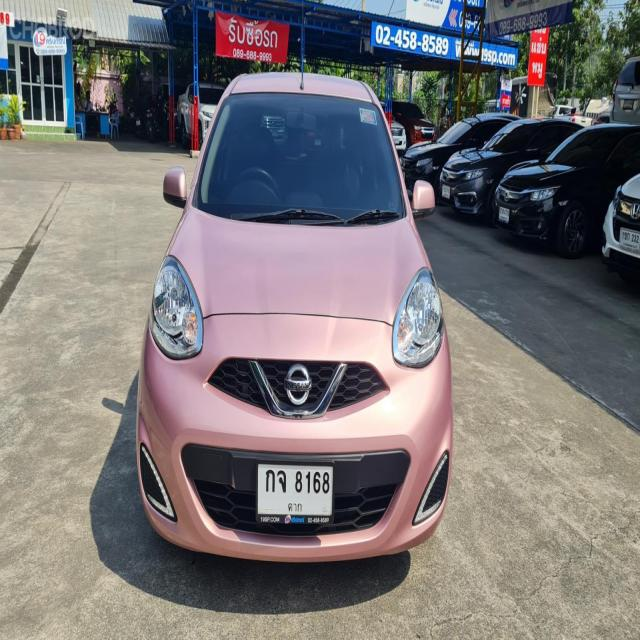license_plate: (256, 456, 335, 529)
